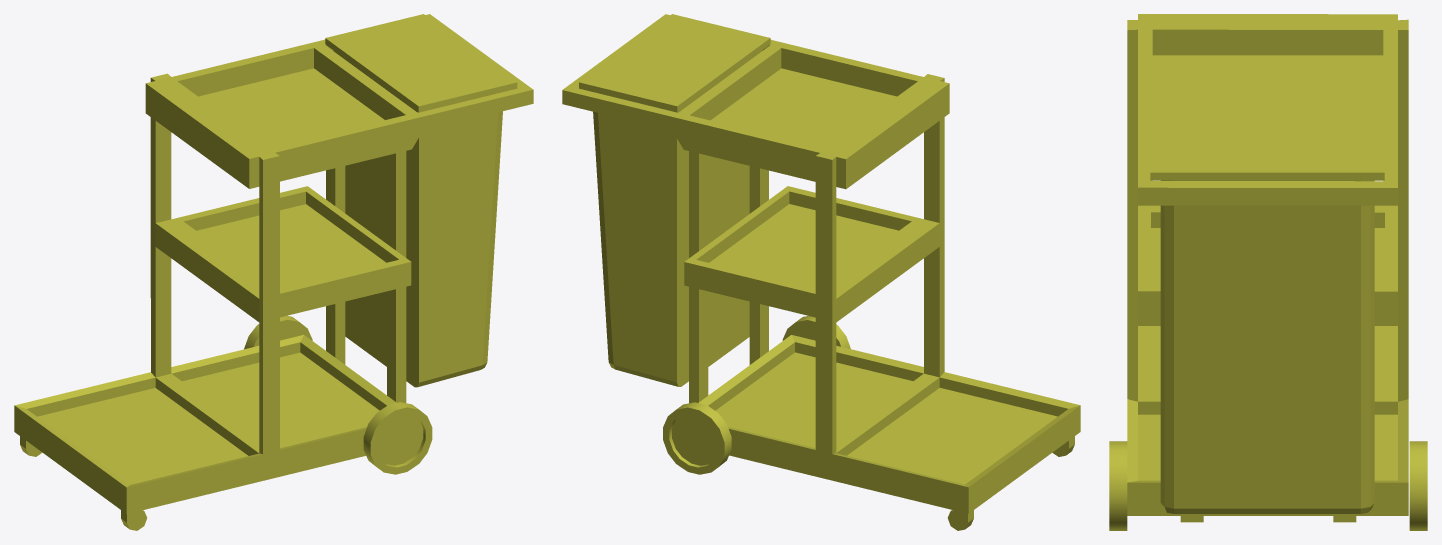
The model's file is Carrito De Limpieza.fbx.
The picture shows the model from 3 angles, left to right: view 1: azimuth 30°, elevation 25°; view 2: azimuth 150°, elevation 25°; view 3: azimuth 270°, elevation 25°; orthographic projection. The views are drawn at different scales.
Parts seen in each view (by area): view 1: CarritoDeLimpieza; view 2: CarritoDeLimpieza; view 3: CarritoDeLimpieza.
Part boxes in pixels (x1,y1,x2,y2): CarritoDeLimpieza: (14,14,533,530); CarritoDeLimpieza: (562,14,1080,530); CarritoDeLimpieza: (1109,14,1427,530).
Bounding box in the file's own units: 1.17 × 0.9485 × 0.624.
